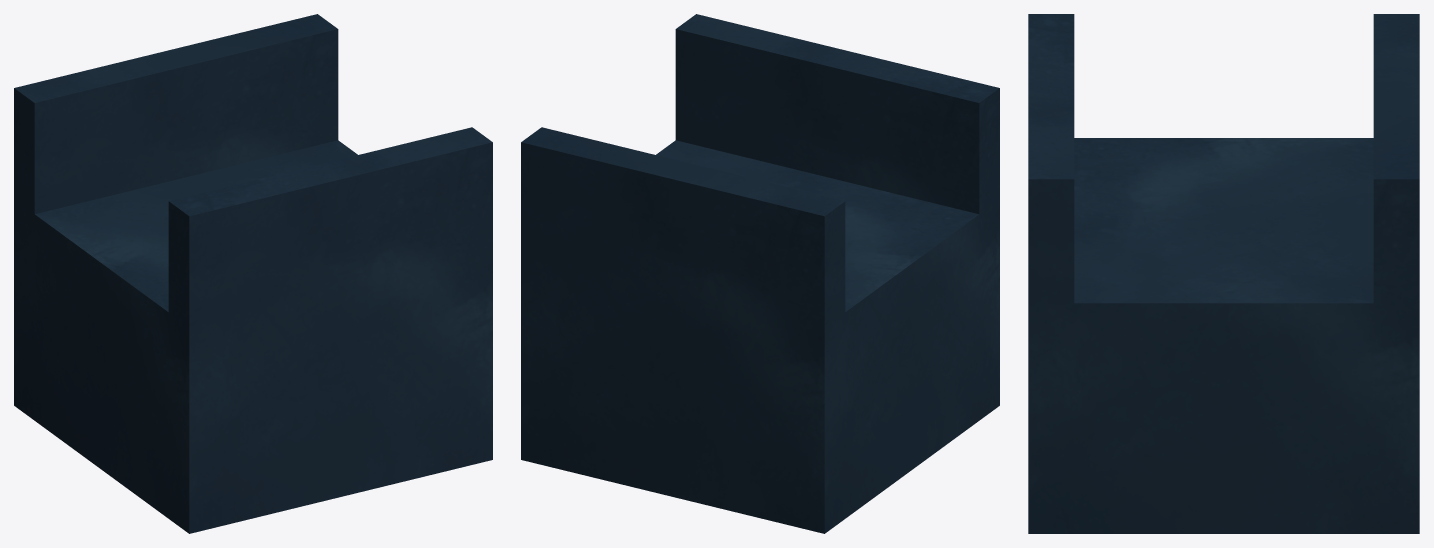
Rendered from Wall Variant B1.fbx.
The picture shows the model from 3 angles, left to right: view 1: azimuth 30°, elevation 25°; view 2: azimuth 150°, elevation 25°; view 3: azimuth 270°, elevation 25°; orthographic projection. The views are drawn at different scales.
Parts seen in each view (by area): view 1: Plane018; view 2: Plane018; view 3: Plane018.
Part boxes in pixels (left/top/right/bottom): Plane018: left=14, top=14, right=492, bottom=533; Plane018: left=521, top=14, right=999, bottom=533; Plane018: left=1028, top=14, right=1419, bottom=533.
Size of the model in its own units: 39.37 by 39.37 by 39.37.
Materials: 1 (1 with a texture image).
